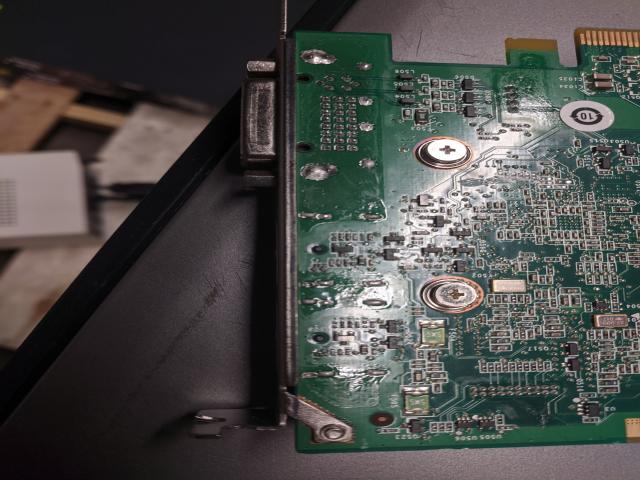CRS: (434, 281, 474, 308), (428, 138, 468, 164)
